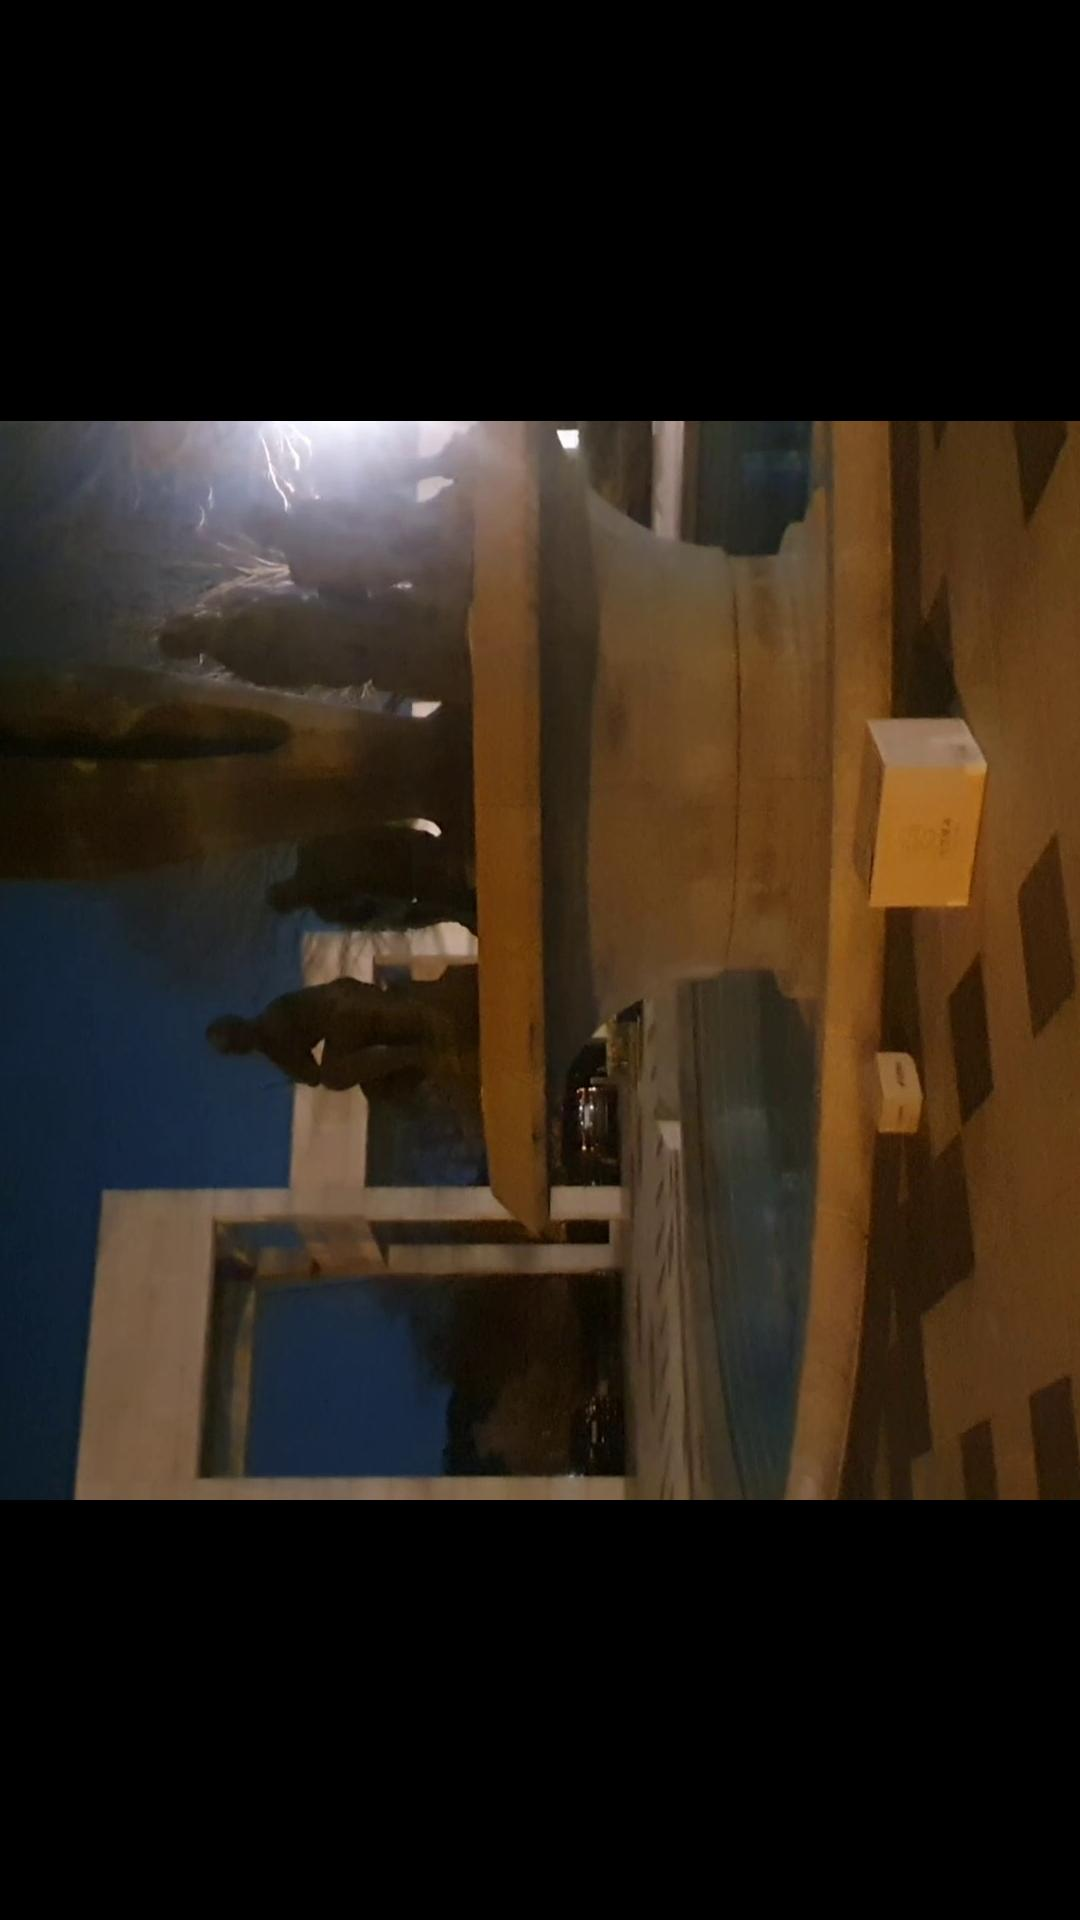Box: (840, 716, 990, 902), (858, 1040, 930, 1129)
